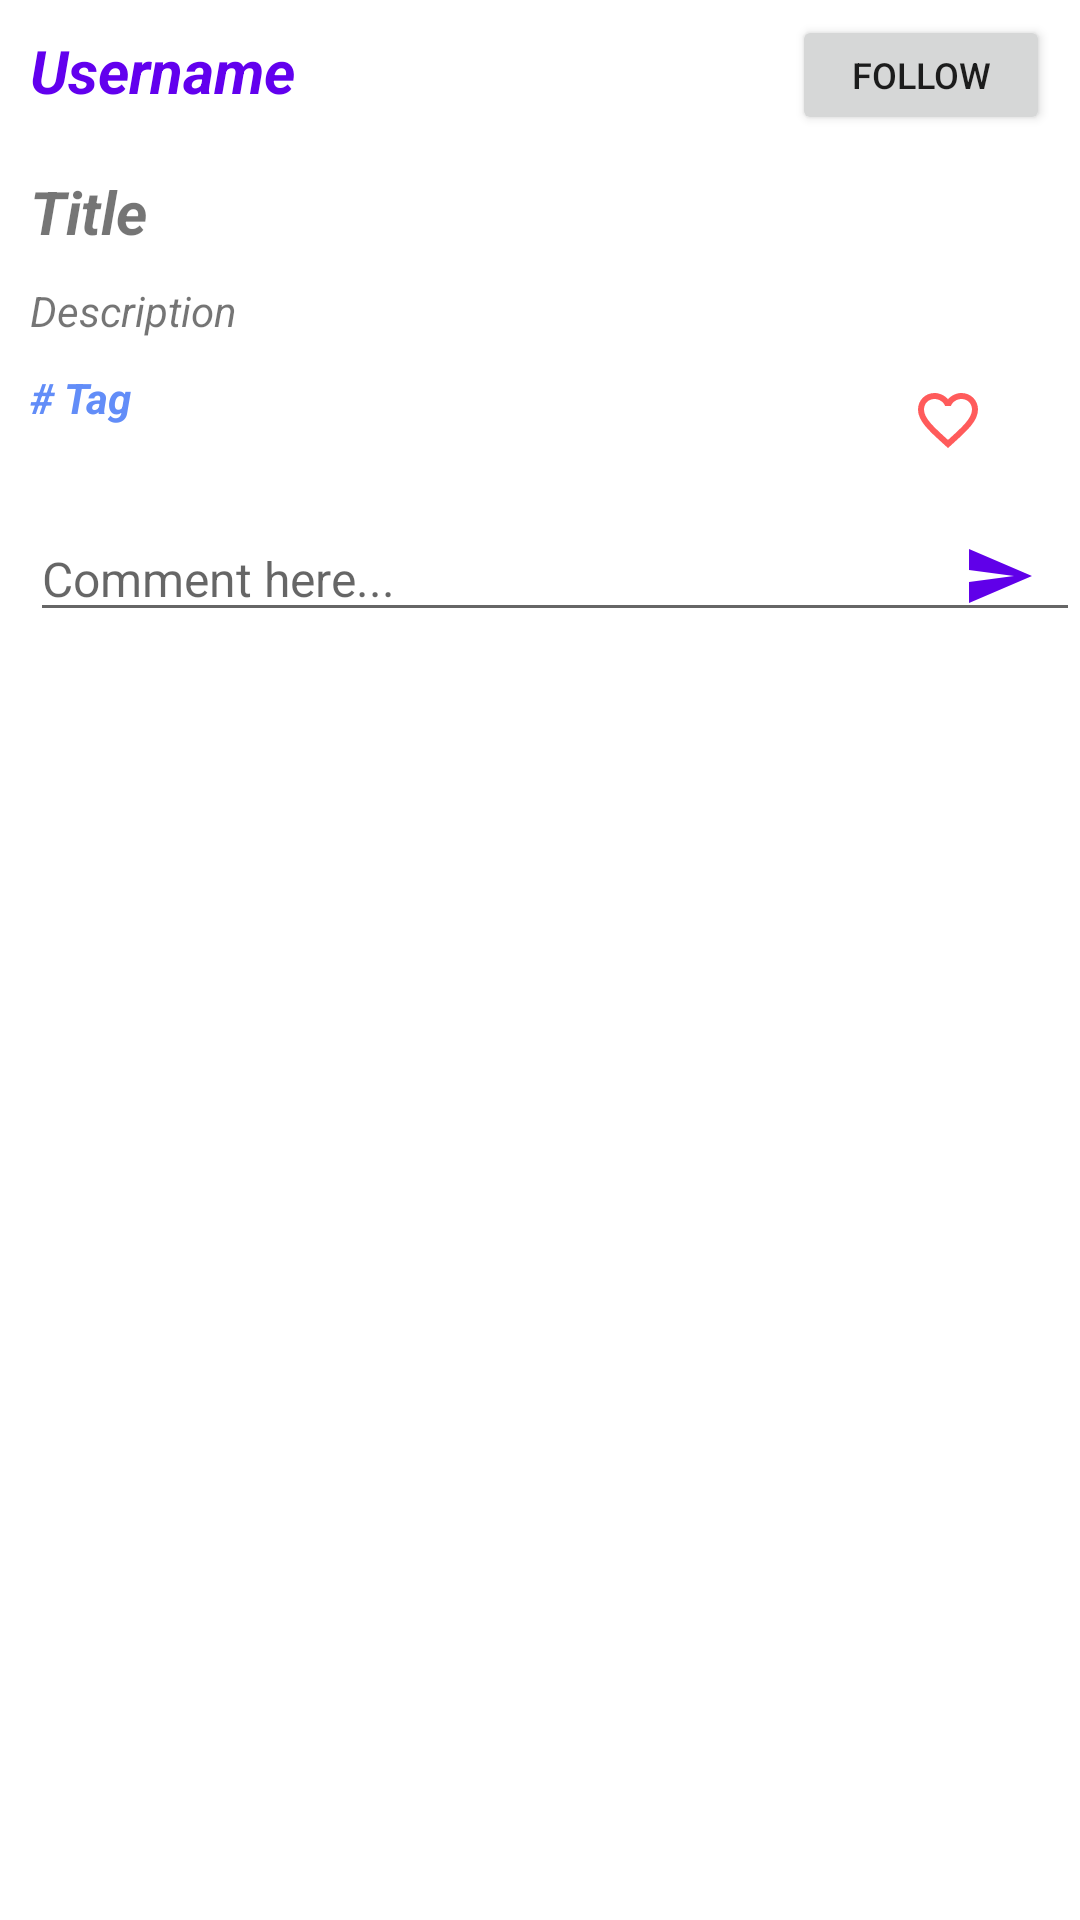

Screen size 1080 × 1920. Icon name, then its center in pixels as point (x, y):
favorite border: point (948, 420)
send: point (1000, 576)
